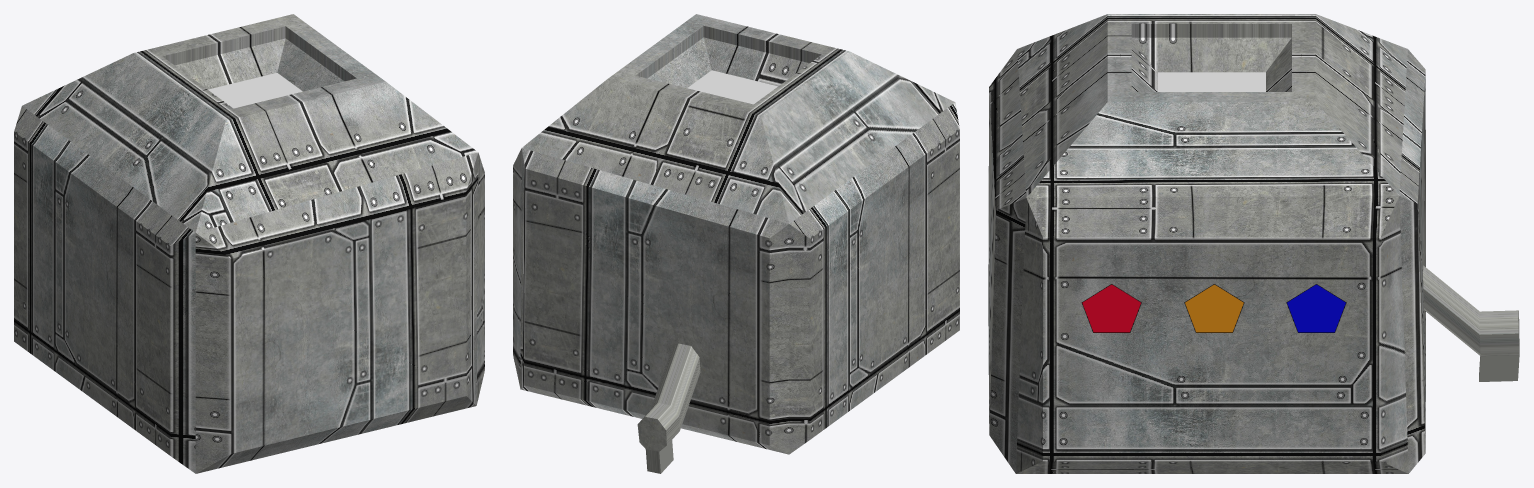
Rendered from carbonSucker.fbx.
The picture shows the model from 3 angles, left to right: view 1: azimuth 30°, elevation 25°; view 2: azimuth 150°, elevation 25°; view 3: azimuth 270°, elevation 25°; orthographic projection. The views are drawn at different scales.
Parts seen in each view (by area): view 1: Machine; view 2: Machine; view 3: Machine.
Part boxes in pixels (bbox=[...]): Machine: bbox=[14, 14, 484, 473]; Machine: bbox=[513, 14, 959, 473]; Machine: bbox=[988, 14, 1519, 473].
Bounding box in the file's own units: 210 × 199 × 272.
3 materials, 2 textured.
